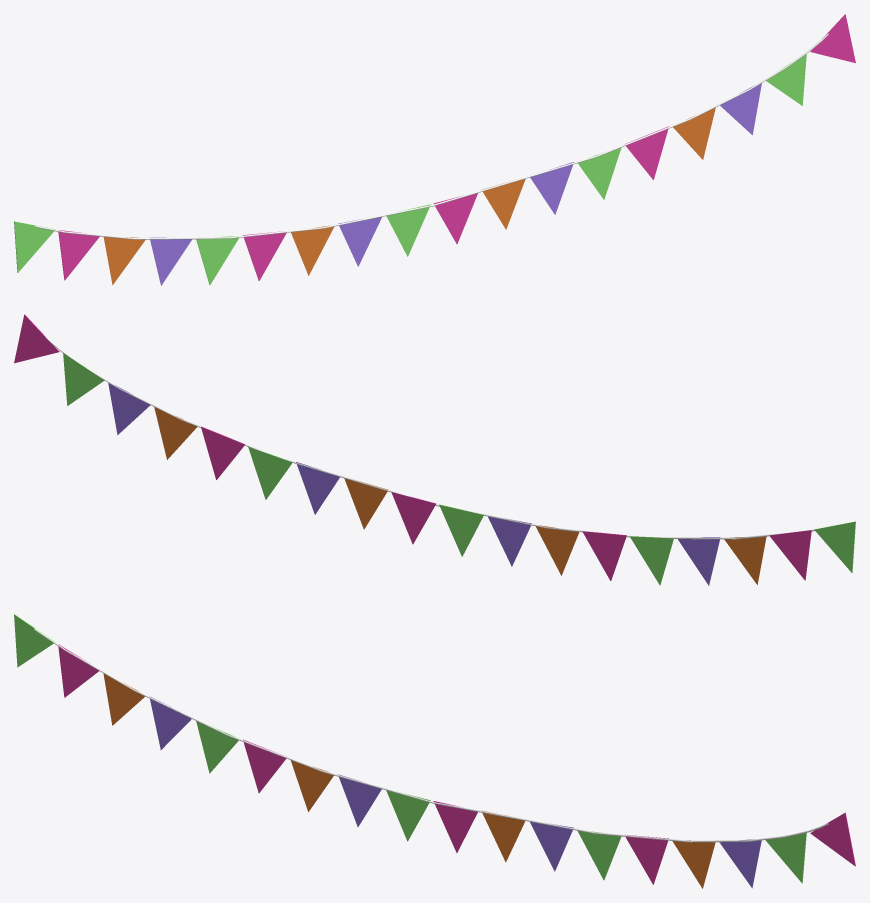
File: StringofFlags.fbx
3 renders of one model, top to bottom at view 1: azimuth 30°, elevation 25°; view 2: azimuth 150°, elevation 25°; view 3: azimuth 330°, elevation 25°, orthographic.
Visible parts, largest first — view 1: Sweep, Plane_0, Plane_17, Plane_5, Plane_13, Plane_1, Plane_8, Plane_9, Plane_4, Plane_2, Plane_12, Plane_10 (+7 smaller); view 2: Sweep, Plane_0, Plane_5, Plane_8, Plane_1, Plane_4, Plane_13, Plane_9, Plane_17, Plane_12, Plane_16, Plane_7 (+7 smaller); view 3: Sweep, Plane_17, Plane_0, Plane_5, Plane_13, Plane_8, Plane_16, Plane_9, Plane_12, Plane_4, Plane_1, Plane_11 (+7 smaller).
Part boxes in pixels (box(x1,y1,x2,y2)): Sweep: box(35, 33, 828, 239); Plane_0: box(14, 221, 55, 272); Plane_17: box(810, 14, 855, 62); Plane_5: box(243, 231, 286, 280); Plane_13: box(624, 126, 668, 179); Plane_1: box(58, 230, 99, 280); Plane_8: box(386, 204, 430, 256); Plane_9: box(433, 193, 477, 244); Plane_4: box(196, 236, 238, 284); Plane_2: box(103, 237, 145, 284); Plane_12: box(578, 147, 621, 199); Plane_10: box(482, 179, 525, 229); Sweep: box(43, 334, 814, 539); Plane_0: box(814, 521, 855, 572); Plane_5: box(582, 531, 626, 580); Plane_8: box(439, 504, 483, 556); Plane_1: box(769, 530, 811, 580); Plane_4: box(630, 536, 673, 585); Plane_13: box(201, 426, 244, 479); Plane_9: box(391, 492, 436, 544); Plane_17: box(14, 314, 59, 363); Plane_12: box(248, 447, 292, 499); Plane_16: box(63, 353, 104, 405); Plane_7: box(488, 516, 531, 566); Sweep: box(34, 628, 827, 842); Plane_17: box(810, 812, 855, 866); Plane_0: box(14, 614, 55, 667); Plane_5: box(243, 739, 286, 793); Plane_13: box(625, 834, 668, 884); Plane_8: box(386, 790, 430, 841); Plane_16: box(765, 833, 806, 883); Plane_9: box(433, 801, 477, 852); Plane_12: box(577, 830, 621, 880); Plane_4: box(196, 721, 239, 773); Plane_1: box(58, 644, 98, 697); Plane_11: box(530, 822, 573, 871).
Bounding box in the file's own units: 1111 × 171 × 2.
